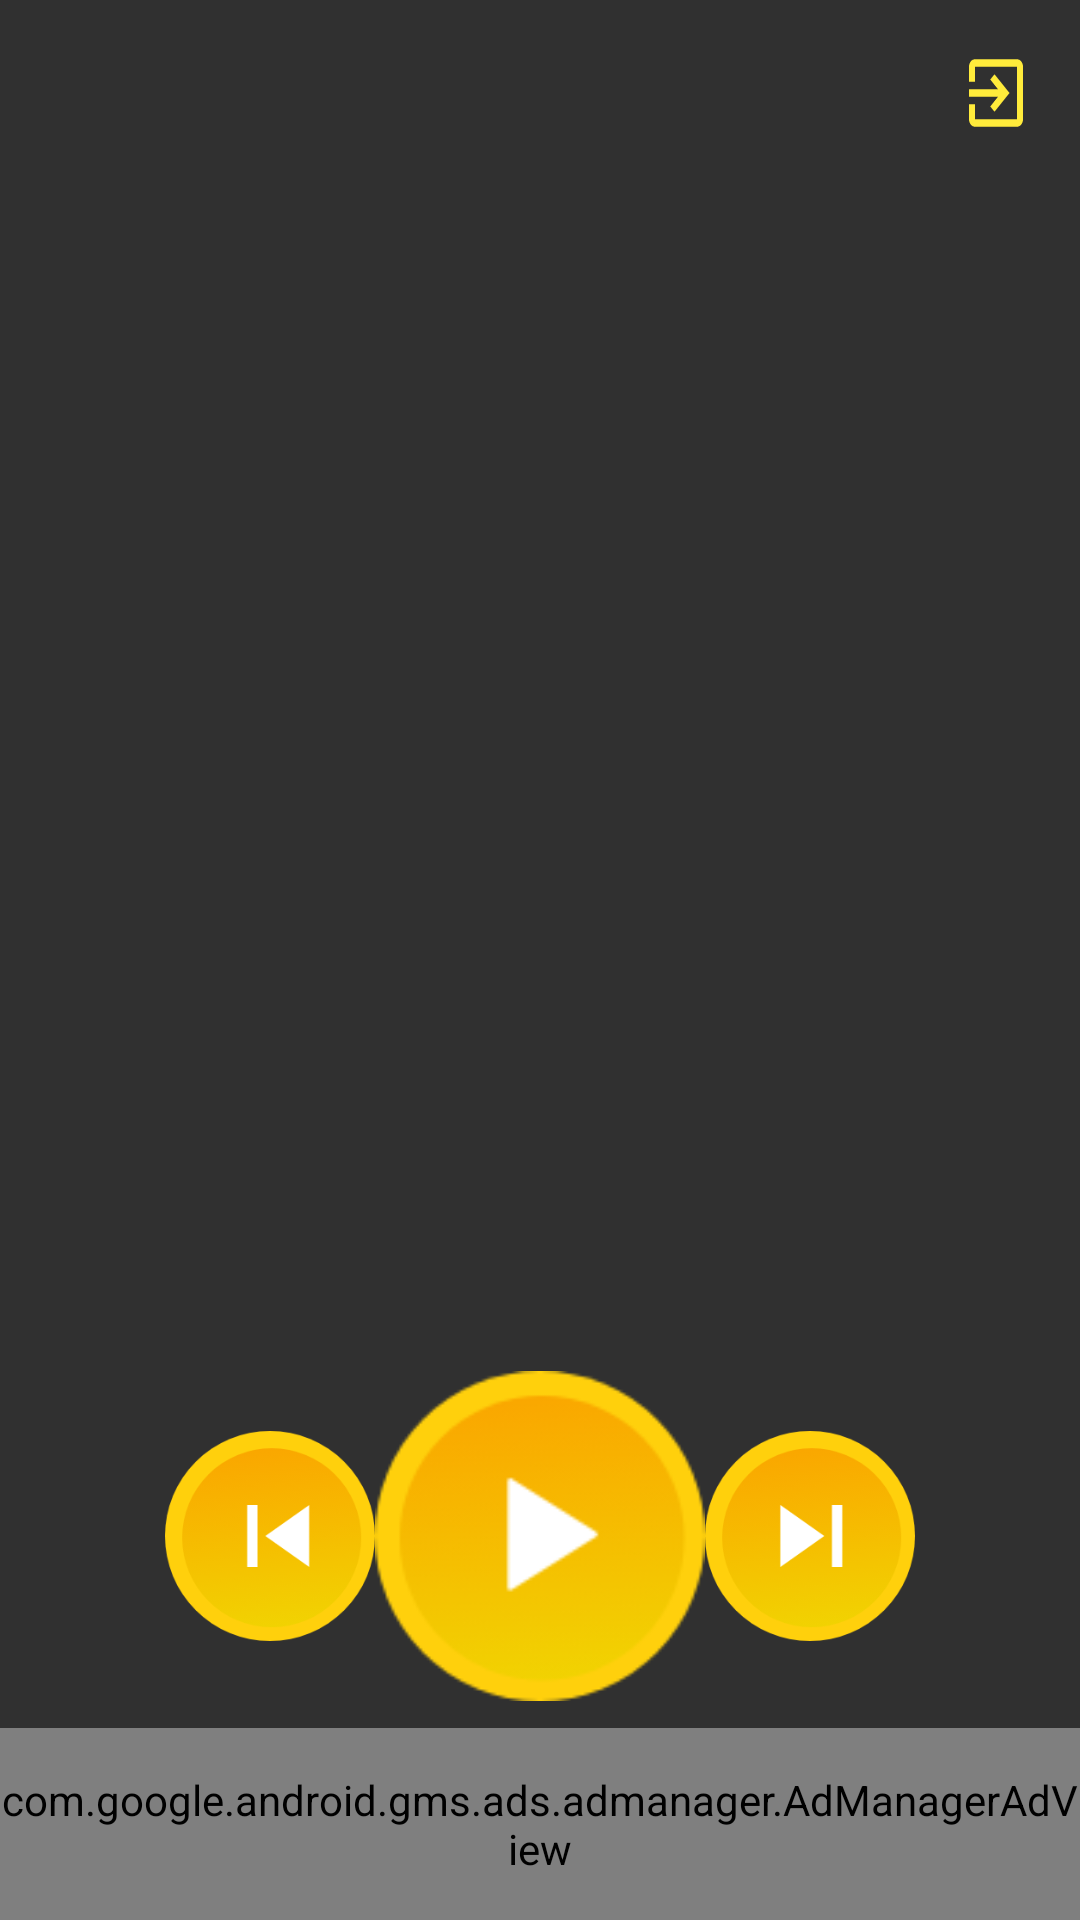

Named icons in this screenshot (1080*1920) and their centers, [x,y]:
exit to app: [996,93]
